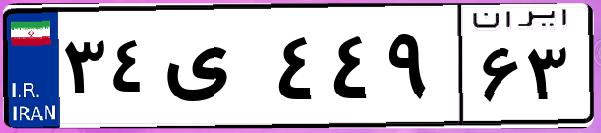3: (57, 26, 110, 100), (525, 38, 570, 115)
4: (270, 28, 330, 110), (330, 28, 385, 110), (110, 28, 158, 98)
6: (475, 38, 525, 113)
9: (385, 28, 445, 110)
ی: (158, 20, 270, 120)
